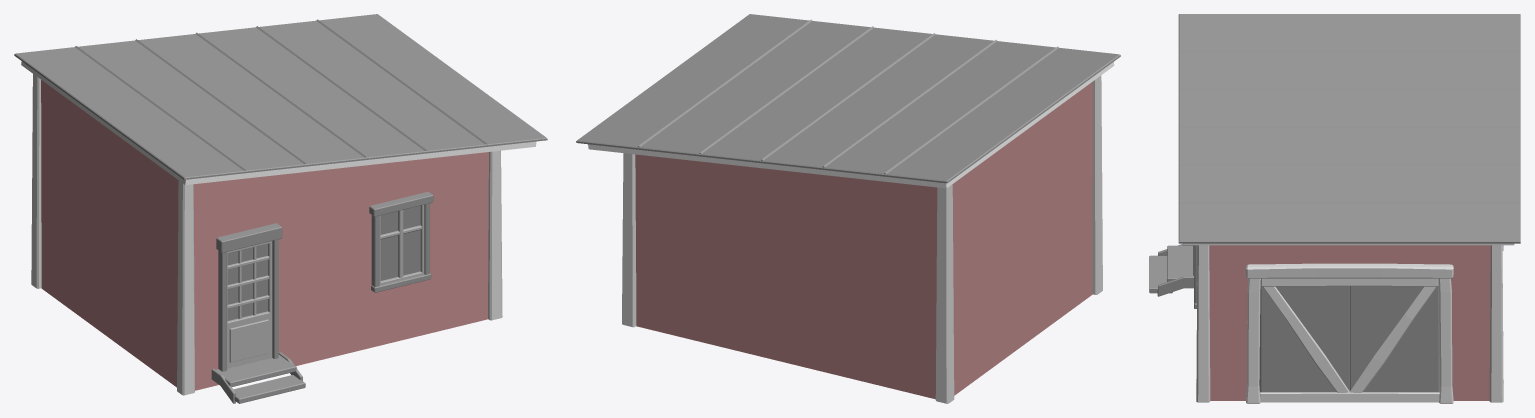
Rendered from fp_storage_l4.glb.
The picture shows the model from 3 angles, left to right: view 1: azimuth 30°, elevation 25°; view 2: azimuth 150°, elevation 25°; view 3: azimuth 270°, elevation 25°; orthographic projection. The views are drawn at different scales.
Size of the model in its own units: 1.95 by 1.17 by 1.71.
